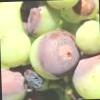Grape Rotten: (0, 0, 100, 100), (28, 29, 80, 80)
